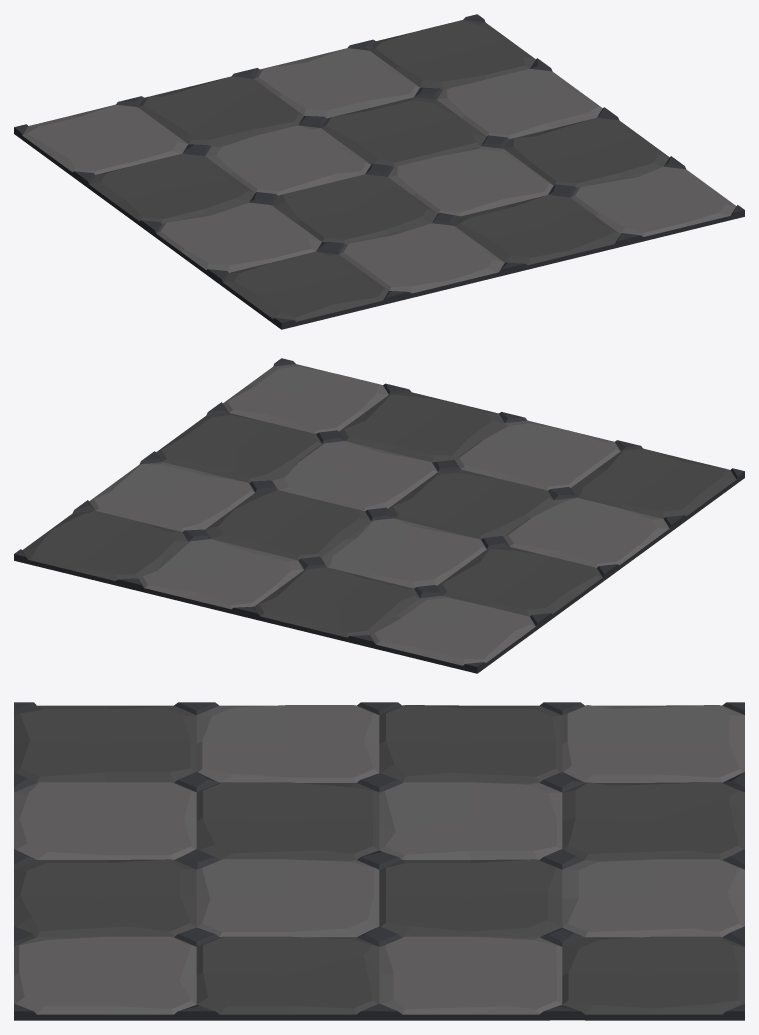
Rendered from SM_Env_Tiles_Ornate_02.FBX.
The picture shows the model from 3 angles, top to bottom: view 1: azimuth 30°, elevation 25°; view 2: azimuth 150°, elevation 25°; view 3: azimuth 270°, elevation 25°; orthographic projection. The views are drawn at different scales.
Visible parts, largest first — view 1: SM_Env_Tiles_Ornate_02; view 2: SM_Env_Tiles_Ornate_02; view 3: SM_Env_Tiles_Ornate_02.
Part boxes in pixels (bbox=[...]): SM_Env_Tiles_Ornate_02: bbox=[14, 14, 744, 329]; SM_Env_Tiles_Ornate_02: bbox=[14, 358, 744, 673]; SM_Env_Tiles_Ornate_02: bbox=[14, 702, 744, 1020].
Size of what is drawn, in the model's own units: 500 by 500 by 7.05.
